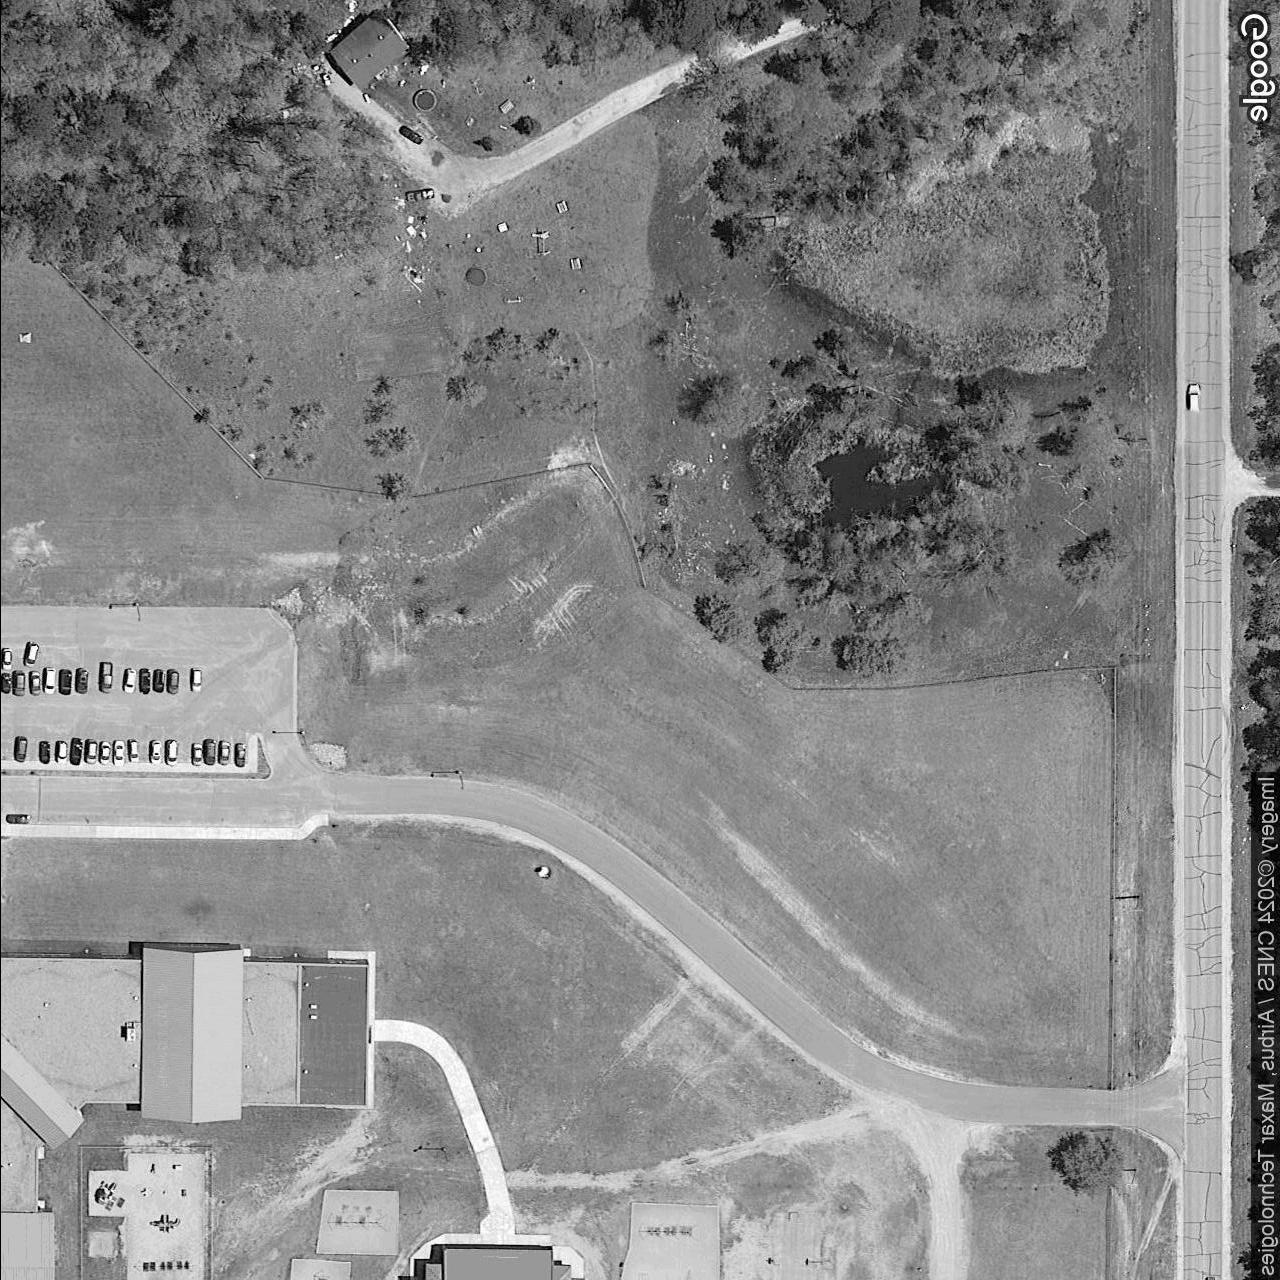House: (327, 7, 409, 91), (423, 1246, 572, 1279)
Other: (0, 944, 370, 1279)
